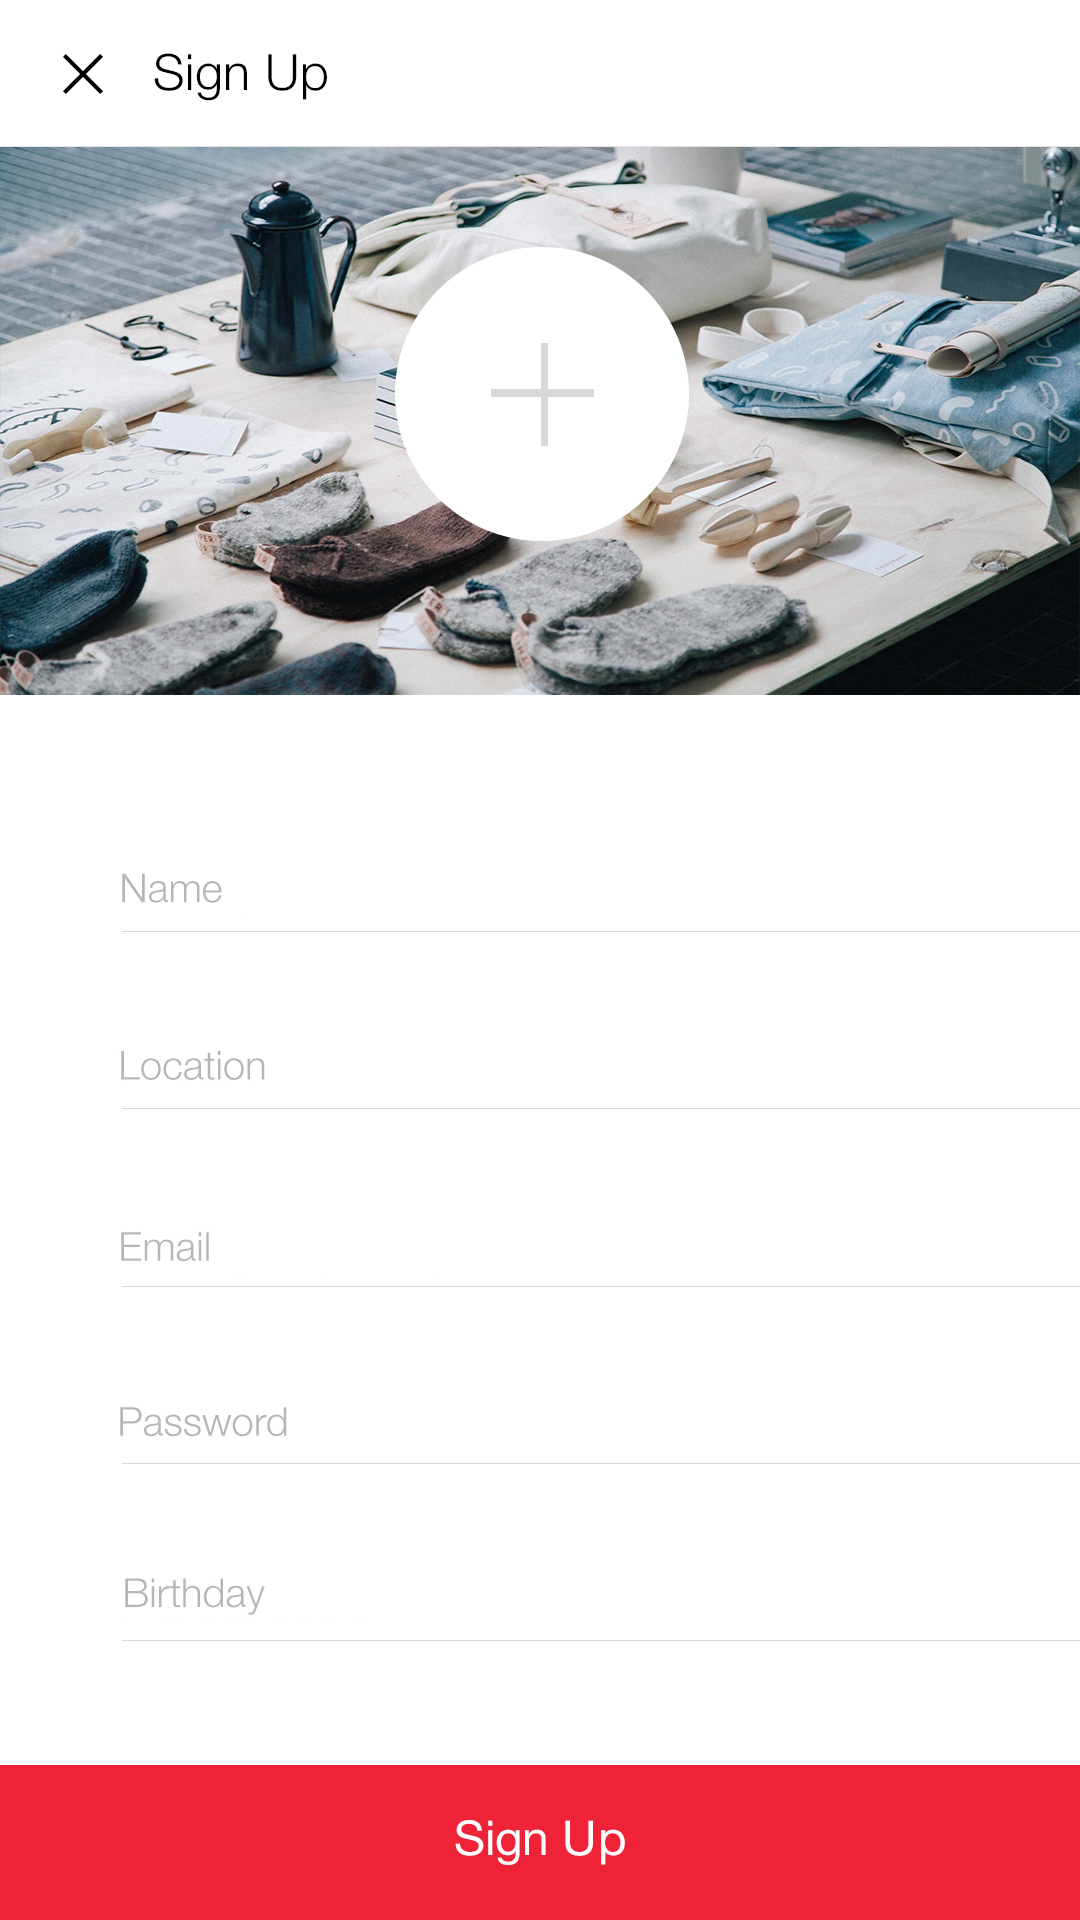EditText: (123, 1577, 1080, 1642), (121, 1050, 1080, 1110), (123, 873, 1080, 934), (120, 1406, 1080, 1465), (121, 1232, 1080, 1288)
Icon: (396, 247, 691, 545), (63, 54, 105, 96)
Image: (1, 148, 1080, 696)
Text: (154, 53, 328, 102), (125, 1577, 266, 1615), (120, 1406, 287, 1437), (123, 1051, 265, 1083), (123, 873, 223, 905), (123, 1232, 211, 1262)
TextButton: (1, 1764, 1080, 1920)
